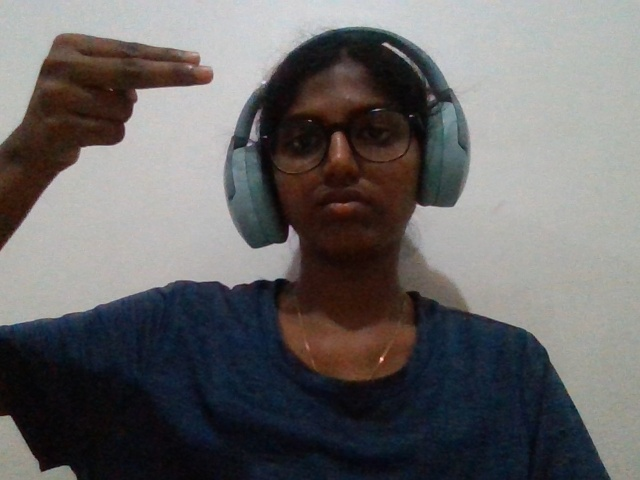H: (1, 11, 229, 190)
